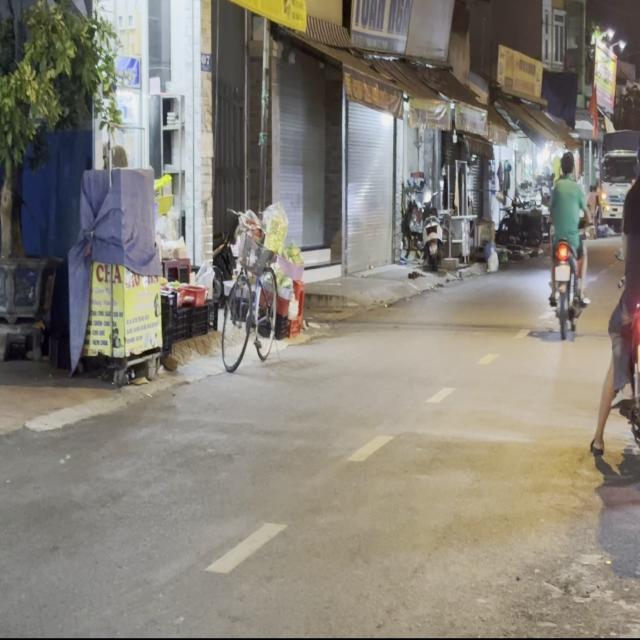licenseplate: (591, 112, 640, 476)
